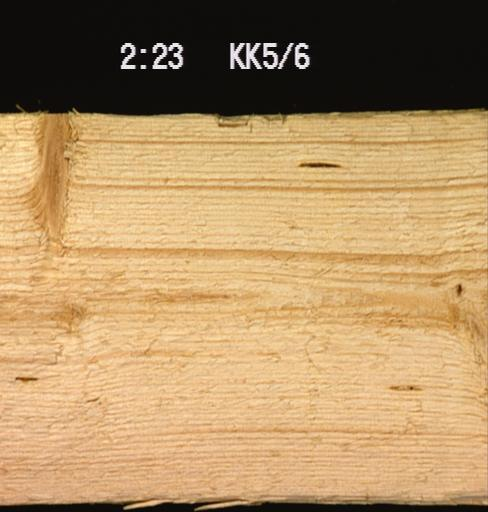small_knot: (447, 273, 475, 304)
